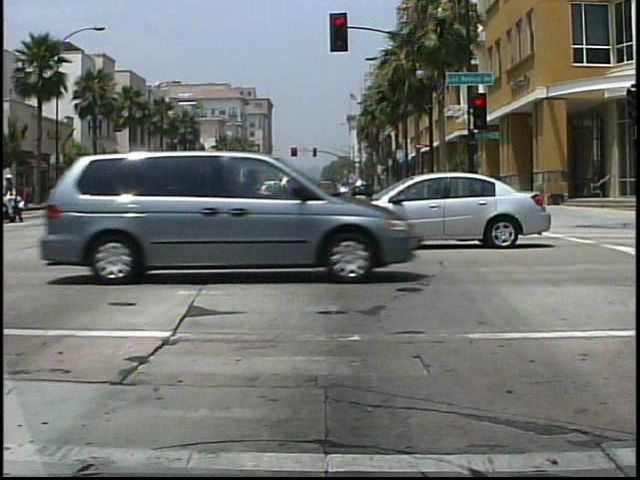person: (3, 171, 28, 225)
